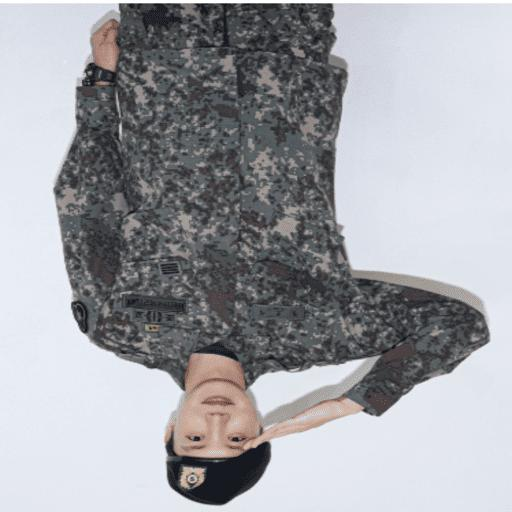korea army: (52, 3, 490, 504)
